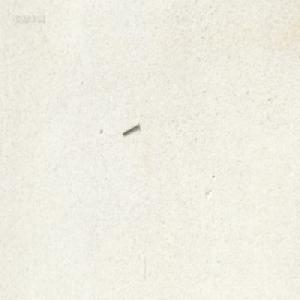Bolt: (122, 121, 139, 135)
